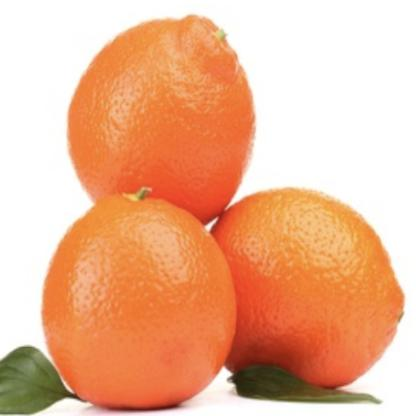fresh: (37, 14, 406, 413)
